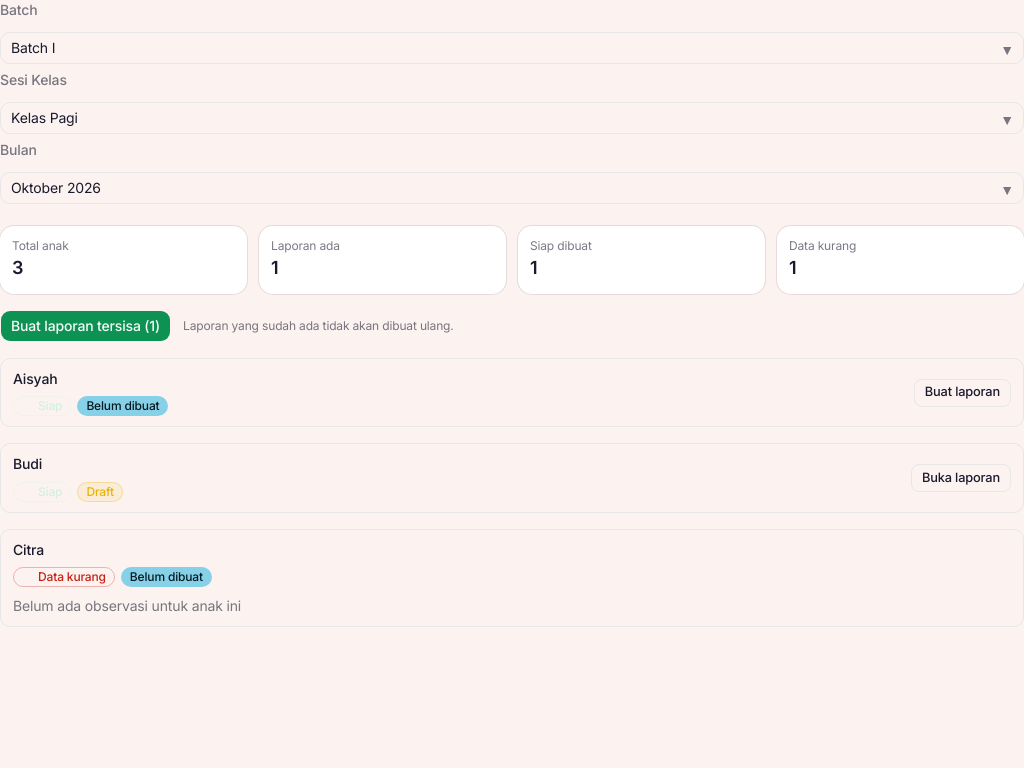
MonthlyReportClient batch generation › shows a confirmation with the eligible, skipped-existing and skipped-insufficient counts
Click the button "Buat laporan tersisa (1)". click: point(86, 326)
box: x1=0 y1=310 x2=171 y2=342
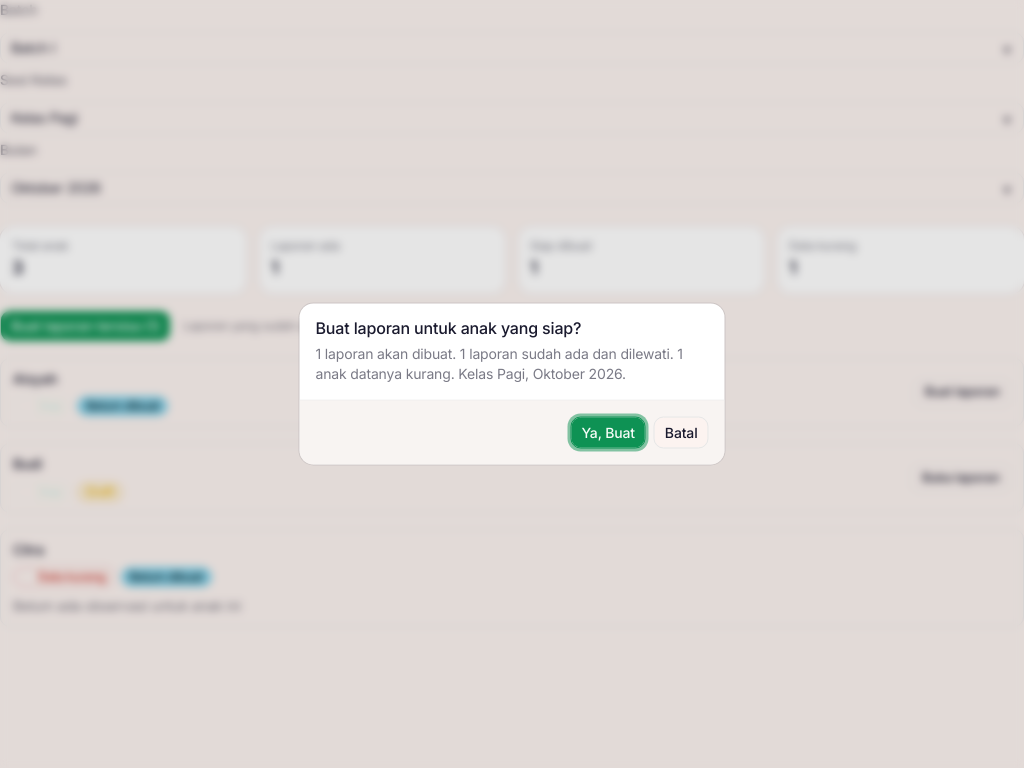
Expected: the text "Kelas Pagi, Oktober 2026" is shown, x1=316 y1=344 x2=683 y2=382
